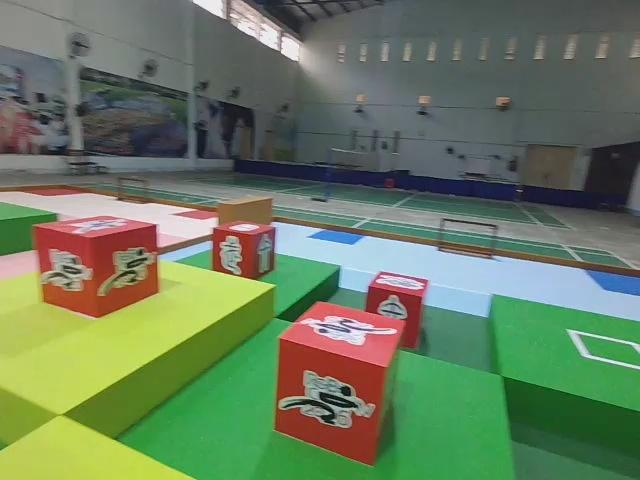R1: (273, 297, 405, 467), (31, 206, 163, 322)
R2 Fake: (211, 221, 273, 278)
